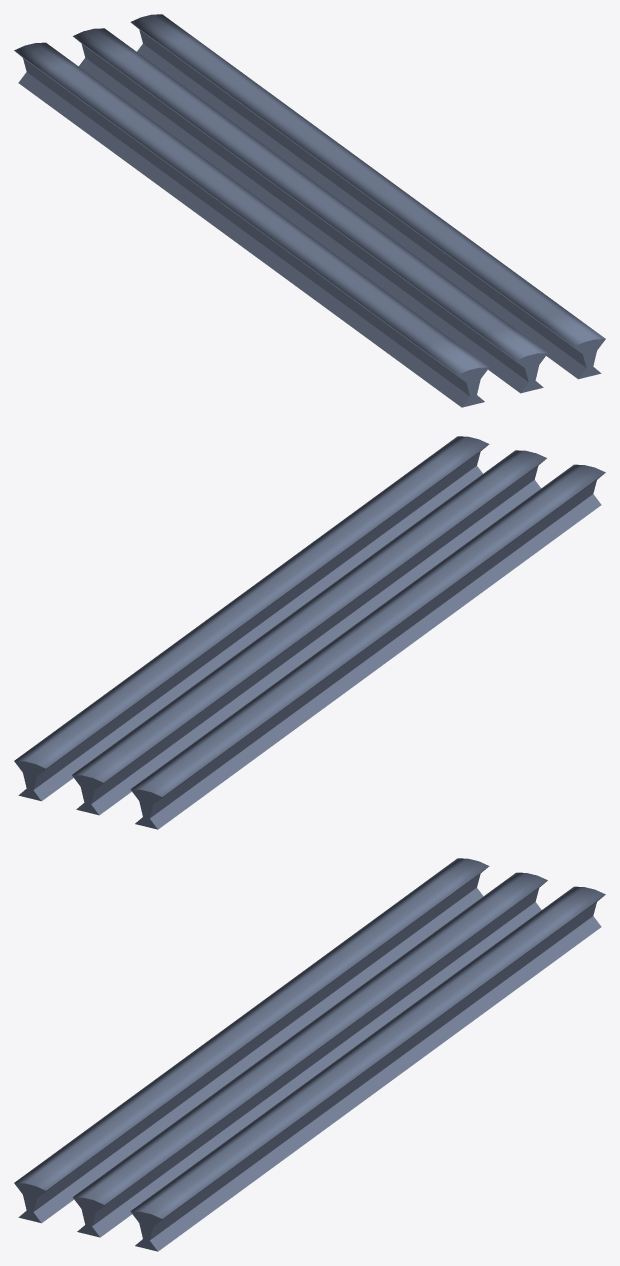
Rendered from space2.fbx.
3 views of the same model, one above another, from view 1: azimuth 30°, elevation 25°; view 2: azimuth 150°, elevation 25°; view 3: azimuth 330°, elevation 25° (orthographic).
Visible parts, largest first — view 1: Cube.002; view 2: Cube.002; view 3: Cube.002.
Part boxes in pixels (<box>): Cube.002: <box>14,14,605,407</box>; Cube.002: <box>14,436,605,829</box>; Cube.002: <box>14,858,605,1251</box>.
Bounding box in the file's own units: 925 × 213 × 4790.
